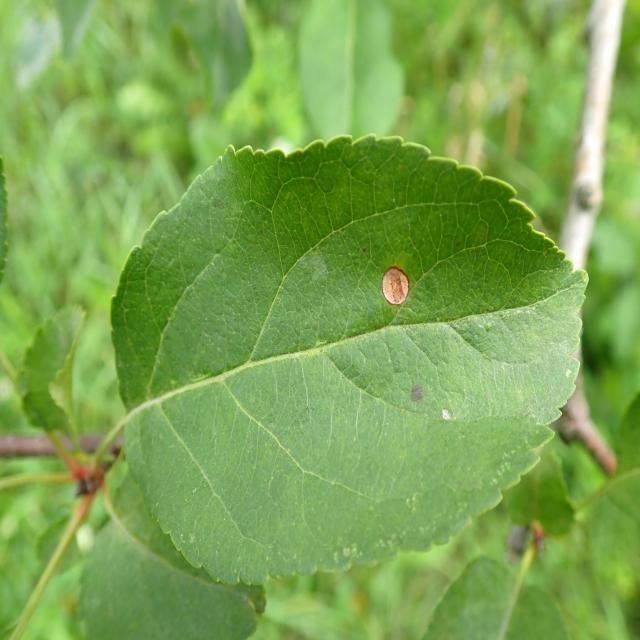Black Rot: (368, 250, 436, 332)
